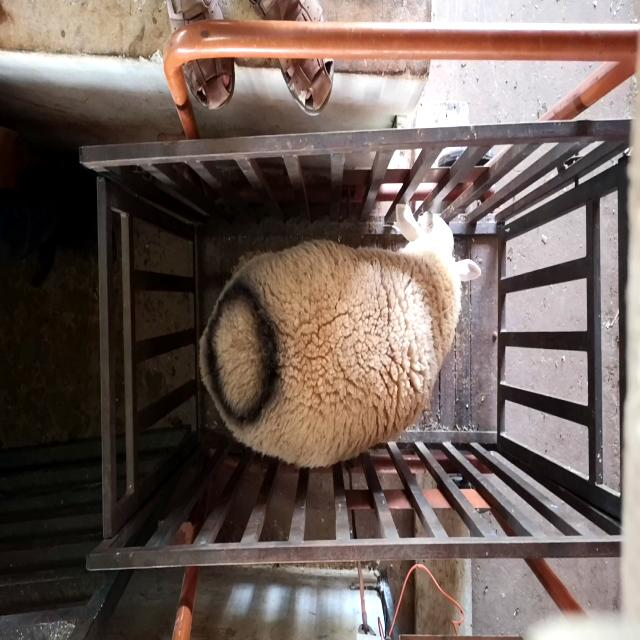sheep: (198, 204, 482, 468)
